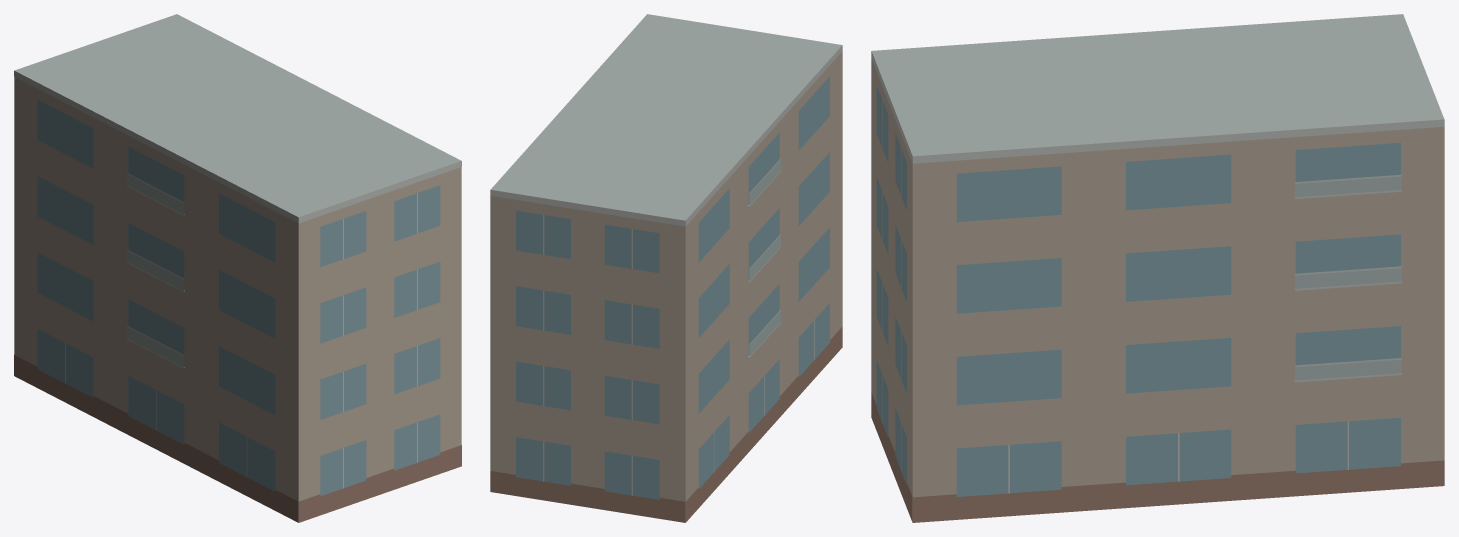
The model's file is residential-84b13373-623e-45fa-8399-3eece942c0a0.glb.
The picture shows the model from 3 angles, left to right: view 1: azimuth 30°, elevation 25°; view 2: azimuth 150°, elevation 25°; view 3: azimuth 270°, elevation 25°; orthographic projection. The views are drawn at different scales.
Visible parts, largest first — view 1: residential-84b13373-623e-45fa-8399-3eece942c0a0.tmp; view 2: residential-84b13373-623e-45fa-8399-3eece942c0a0.tmp; view 3: residential-84b13373-623e-45fa-8399-3eece942c0a0.tmp.
Part boxes in pixels (box(x1,y1,x2,y2)): residential-84b13373-623e-45fa-8399-3eece942c0a0.tmp: box(14, 14, 461, 522); residential-84b13373-623e-45fa-8399-3eece942c0a0.tmp: box(490, 14, 842, 522); residential-84b13373-623e-45fa-8399-3eece942c0a0.tmp: box(871, 14, 1444, 522).
Size of the model in its own units: 10.17 by 12.2 by 17.3.
